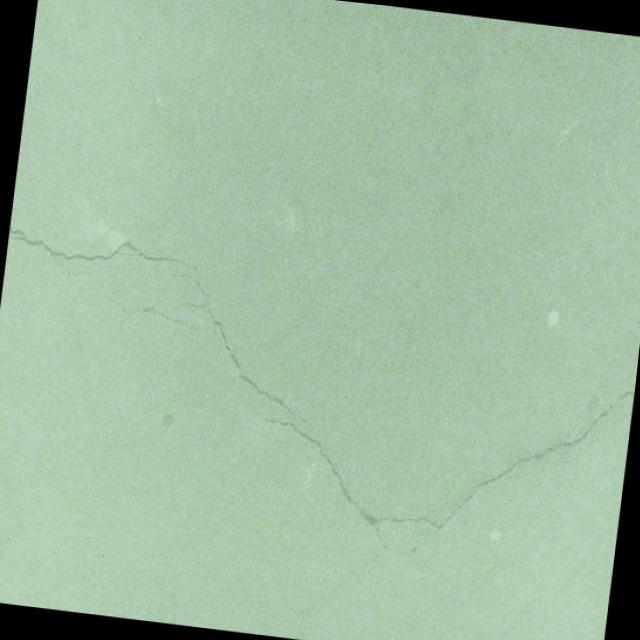crack: (227, 343, 634, 582), (144, 266, 326, 428), (4, 225, 201, 282), (295, 545, 377, 640), (92, 289, 212, 332), (66, 268, 90, 280)
